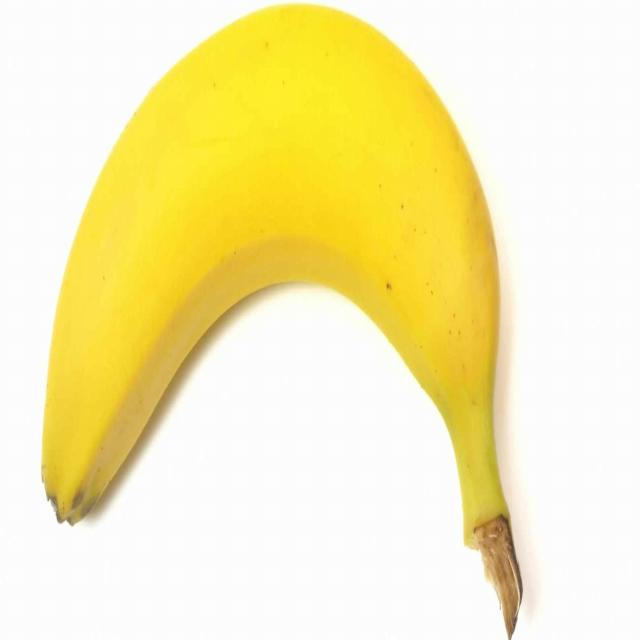banana: (36, 8, 530, 640)
